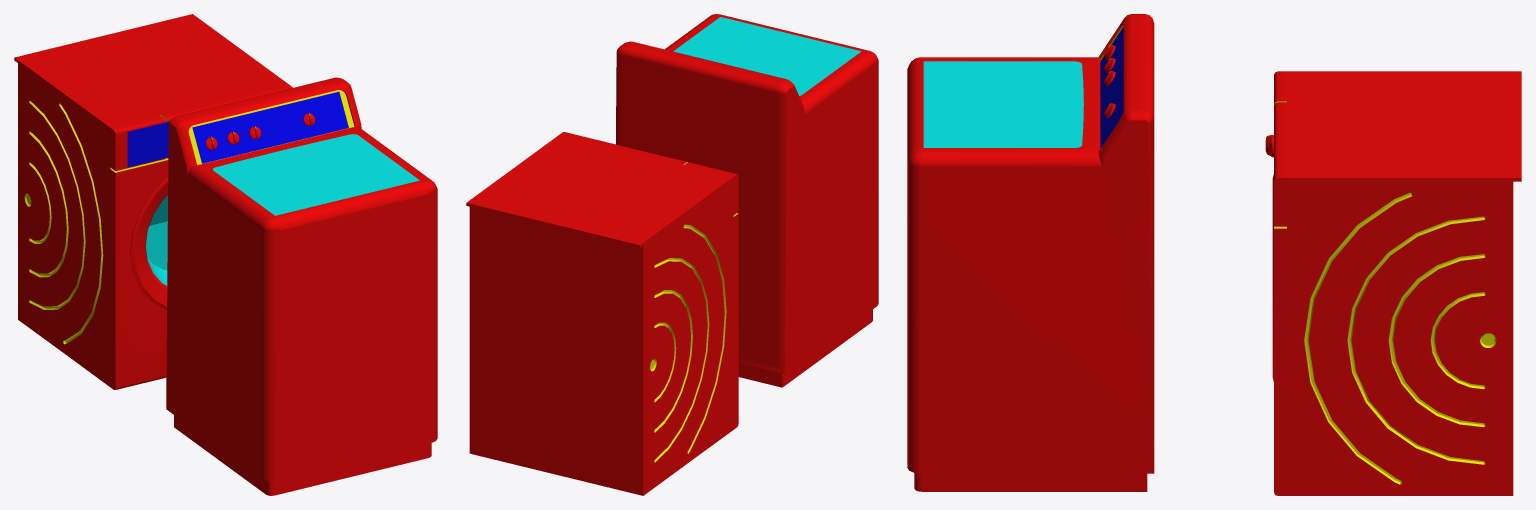
The model's file is MT_washing_machines_grp.fbx.
The picture shows the model from 3 angles, left to right: view 1: azimuth 30°, elevation 25°; view 2: azimuth 150°, elevation 25°; view 3: azimuth 270°, elevation 25°; orthographic projection. The views are drawn at different scales.
Visible parts, largest first — view 1: waching_machine_1, washing_machine_2, washing_machine_door_1, washing_machine_door_2; view 2: washing_machine_2, waching_machine_1, washing_machine_door_1; view 3: washing_machine_2, waching_machine_1, washing_machine_door_1.
Part boxes in pixels (x1,y1,x2,y2): waching_machine_1: (166, 77, 437, 495); washing_machine_2: (14, 14, 292, 389); washing_machine_door_1: (207, 130, 426, 233); washing_machine_door_2: (130, 176, 168, 310); washing_machine_2: (466, 132, 738, 495); waching_machine_1: (616, 14, 878, 387); washing_machine_door_1: (673, 15, 864, 96); washing_machine_2: (1274, 71, 1521, 495); waching_machine_1: (907, 14, 1154, 491); washing_machine_door_1: (907, 61, 1097, 157).
Bounding box in the file's own units: 68.71 × 114 × 167.
